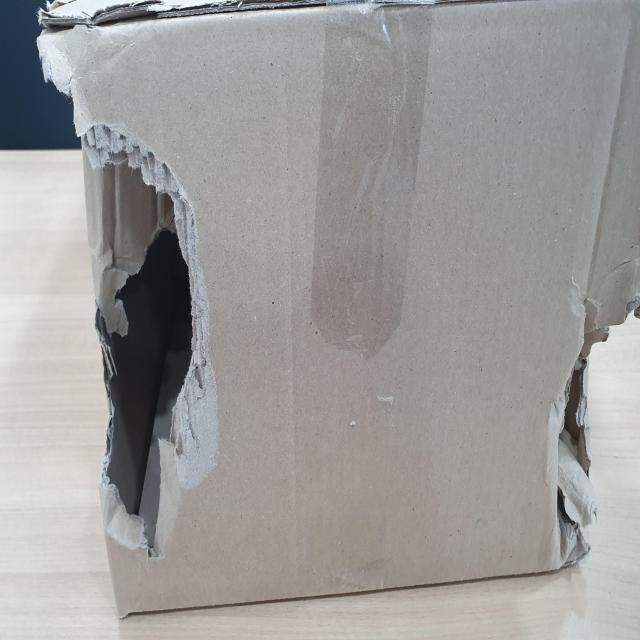damaged: (75, 102, 205, 536), (545, 282, 640, 563)
